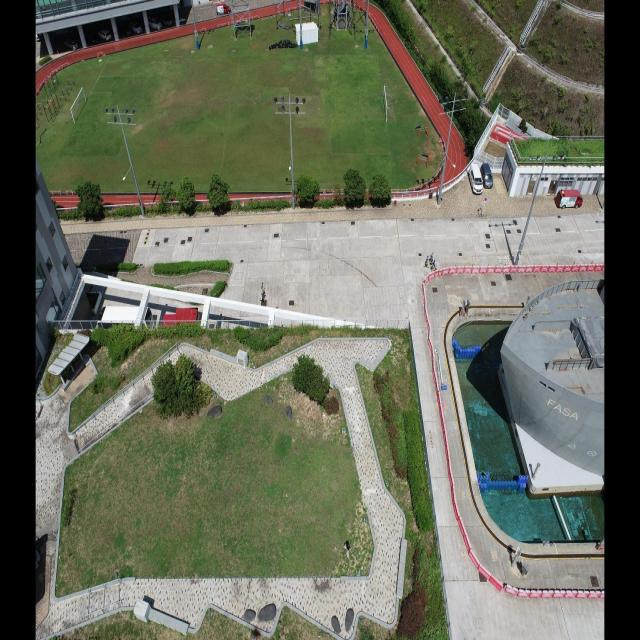p3rson: (344, 542, 350, 558), (424, 255, 428, 268), (430, 251, 434, 264), (432, 260, 435, 273), (262, 290, 265, 302), (261, 282, 263, 293)
